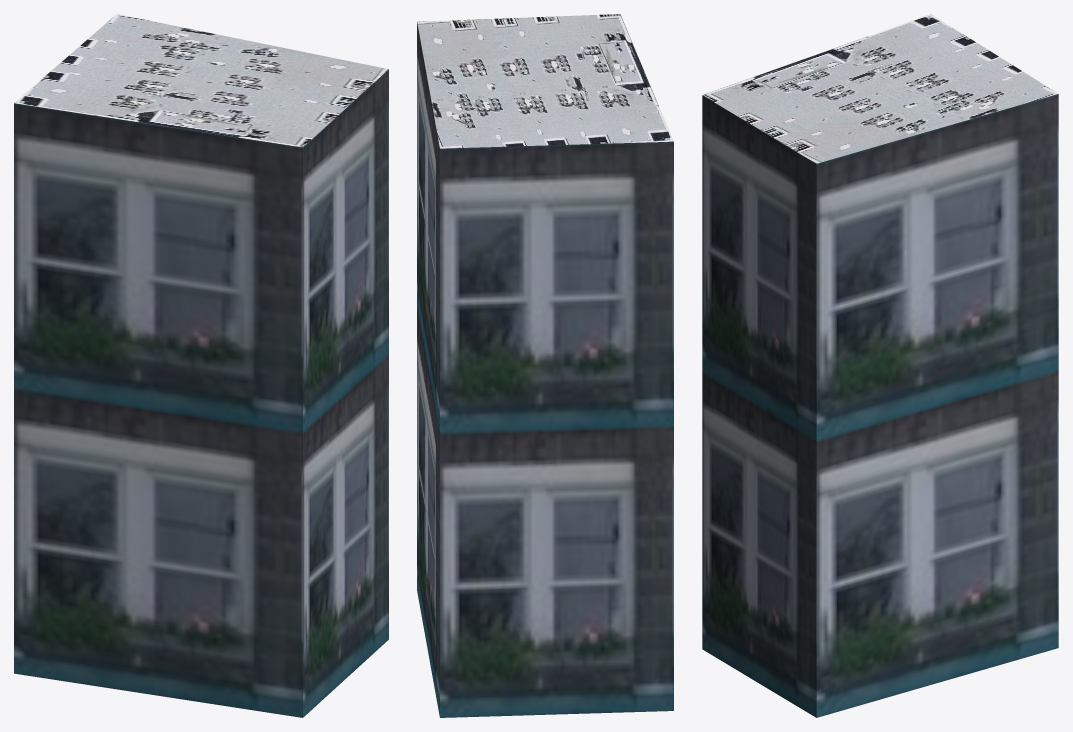
The model's file is ResTex__51.fbx.
3 renders of one model, left to right at view 1: azimuth 30°, elevation 25°; view 2: azimuth 150°, elevation 25°; view 3: azimuth 270°, elevation 25°, orthographic. The views are drawn at different scales.
Parts seen in each view (by area): view 1: CityEngineMaterial_11_m, CityEngineMaterial_8_m; view 2: CityEngineMaterial_11_m, CityEngineMaterial_8_m; view 3: CityEngineMaterial_11_m, CityEngineMaterial_8_m.
Part boxes in pixels (x1,y1,x2,y2): CityEngineMaterial_11_m: (14,69,388,717); CityEngineMaterial_8_m: (14,14,388,147); CityEngineMaterial_11_m: (417,22,673,717); CityEngineMaterial_8_m: (417,14,673,148); CityEngineMaterial_11_m: (702,94,1058,717); CityEngineMaterial_8_m: (702,14,1058,163).
Size of the model in its own units: 3.48 by 6 by 3.5.
Materials: 2 (2 with a texture image).
